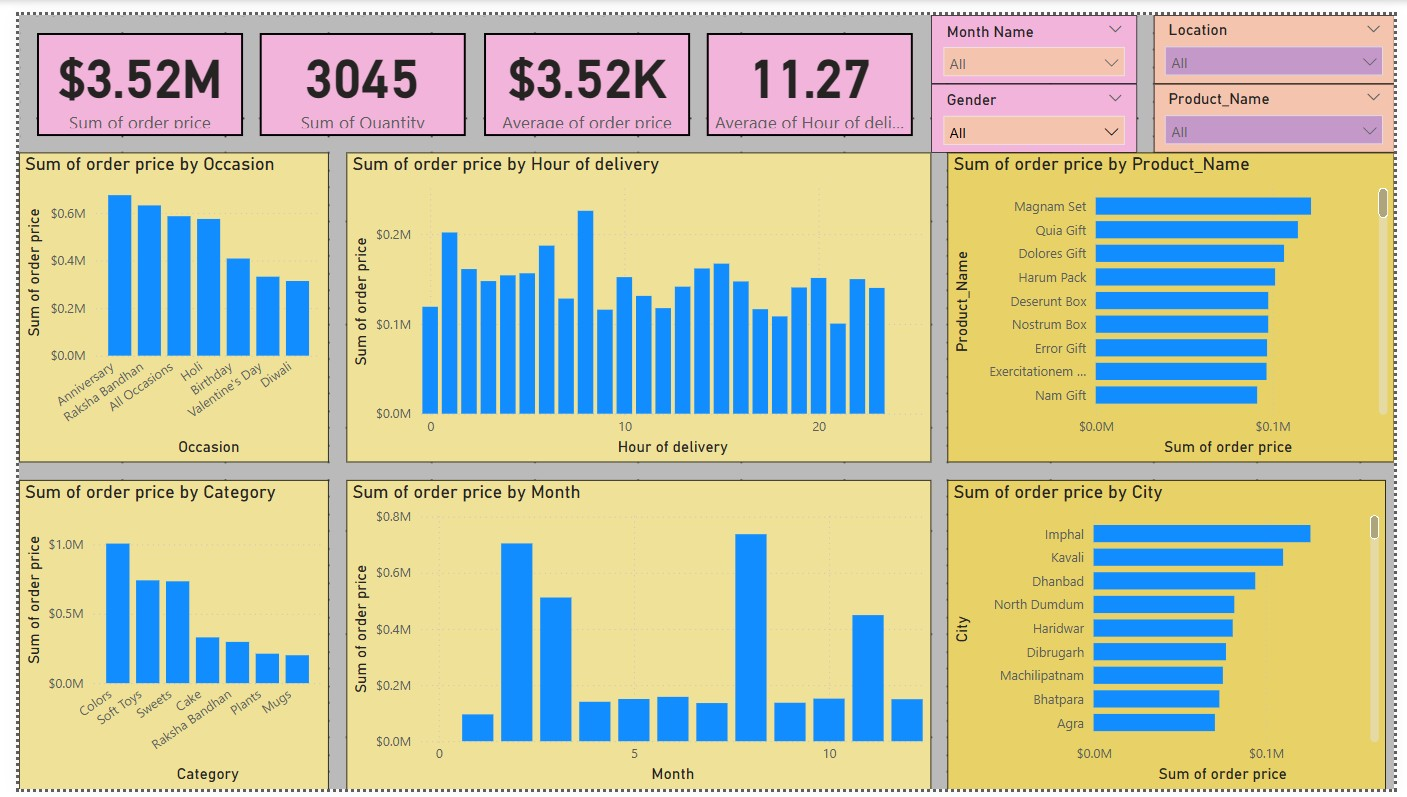

What the dashboard file says about the page in this screenshot:
{"tool":"powerbi","page":{"name":"Page 1","canvas":[1280,720],"ordinal":0},"visuals":[{"type":"columnChart","fields":{"Category":["order.Occasion"],"Y":["Sum(order.order price)"]},"box":[0,128,288,288],"z":0},{"type":"columnChart","fields":{"Category":["product.Category"],"Y":["Sum(order.order price)"]},"box":[0,432,288,288],"z":1000},{"type":"areaChart","fields":{"Category":["order.Hour of delivery"],"Y":["Sum(order.order price)"]},"box":[304,128,544,288],"z":2000},{"type":"areaChart","fields":{"Category":["order.Month"],"Y":["Sum(order.order price)"]},"box":[304,432,544,288],"z":3000},{"type":"clusteredBarChart","fields":{"Category":["product.Product_Name"],"Y":["Sum(order.order price)"]},"box":[864,128,416,288],"z":4000},{"type":"barChart","fields":{"Y":["Sum(order.order price)"],"Category":["customer.City"]},"box":[864,432,408,288],"z":5000},{"type":"card","fields":{"Values":["Sum(order.order price)"]},"box":[16,16,192,96],"z":6000},{"type":"card","fields":{"Values":["Sum(order.Quantity)"]},"box":[224,16,192,96],"z":7000},{"type":"card","fields":{"Values":["Avg(order.Hour of delivery)"]},"box":[640,16,192,96],"z":8000},{"type":"card","fields":{"Values":["Avg(order.order price)"]},"box":[432,16,192,96],"z":9000},{"type":"slicer","fields":{"Values":["order.Location"]},"box":[1056,0,224,64],"z":10000},{"type":"slicer","fields":{"Values":["product.Product_Name"]},"box":[1056,64,224,64],"z":11000},{"type":"slicer","fields":{"Values":["order.Month Name"]},"box":[848,0,192,64],"z":12000},{"type":"slicer","fields":{"Values":["customer.Gender"]},"box":[848,64,192,64],"z":13000}]}

Visuals, with their boxes in screenshot pixels (x1, y1, x2, y2), scaled from the page's 1280x720 canvas onto the 1407x797 screenshot:
columnChart - order.Occasion x Sum(order.order price): [x1=0, y1=142, x2=317, y2=460]
columnChart - product.Category x Sum(order.order price): [x1=0, y1=478, x2=317, y2=796]
areaChart - order.Hour of delivery x Sum(order.order price): [x1=334, y1=142, x2=932, y2=460]
areaChart - order.Month x Sum(order.order price): [x1=334, y1=478, x2=932, y2=796]
clusteredBarChart - product.Product_Name x Sum(order.order price): [x1=950, y1=142, x2=1406, y2=460]
barChart - Sum(order.order price) x customer.City: [x1=950, y1=478, x2=1398, y2=796]
card - Sum(order.order price): [x1=18, y1=18, x2=229, y2=124]
card - Sum(order.Quantity): [x1=246, y1=18, x2=457, y2=124]
card - Avg(order.Hour of delivery): [x1=704, y1=18, x2=915, y2=124]
card - Avg(order.order price): [x1=475, y1=18, x2=686, y2=124]
slicer - order.Location: [x1=1161, y1=0, x2=1406, y2=71]
slicer - product.Product_Name: [x1=1161, y1=71, x2=1406, y2=142]
slicer - order.Month Name: [x1=932, y1=0, x2=1143, y2=71]
slicer - customer.Gender: [x1=932, y1=71, x2=1143, y2=142]
